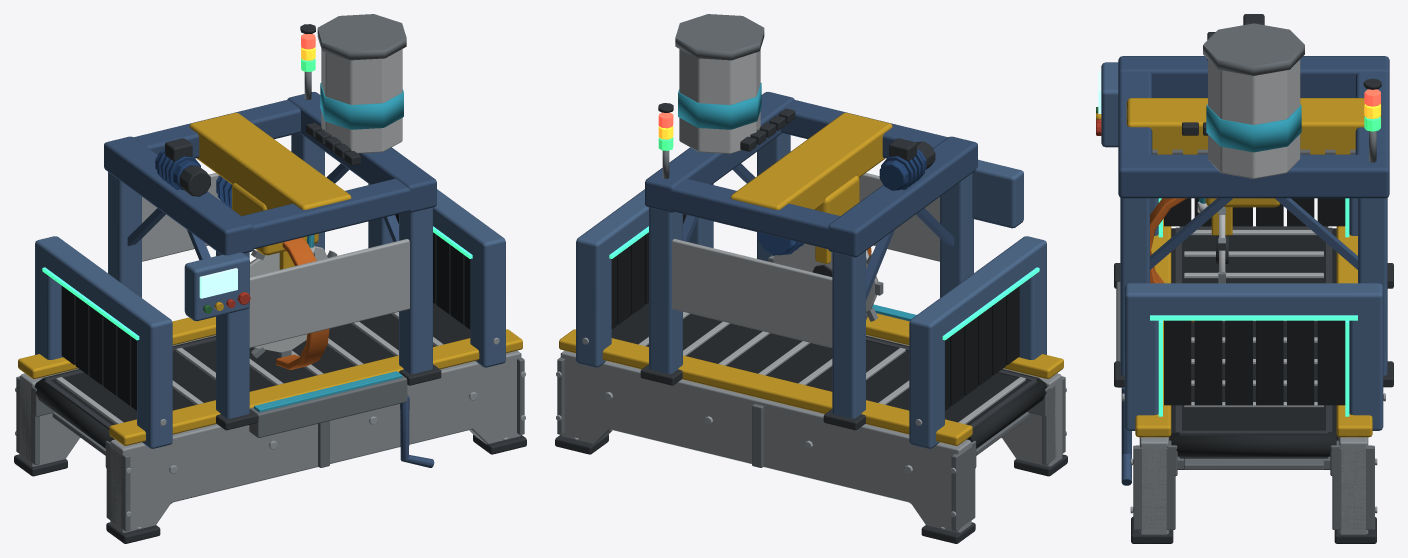
The model's file is fw_stonecutter.glb.
The picture shows the model from 3 angles, left to right: view 1: azimuth 30°, elevation 25°; view 2: azimuth 150°, elevation 25°; view 3: azimuth 270°, elevation 25°; orthographic projection. The views are drawn at different scales.
Visible parts, largest first — view 1: prism, block.096, belt, block.065, block.057, block.063, block.002, cyl.013, block.037, block.058, block.098, block.035 (+33 smaller); view 2: prism.001, block.097, belt, block.065, block.009, block.057, block.064, block.055, cyl.013, block.037, block.060, block.036 (+30 smaller); view 3: belt, block.062, block.046, cyl.013, block.065, block.057, cyl.015, block.045, block.044, cyl.002, block.060, block.058 (+43 smaller).
Boxes of the visible parts, x1,y1,x2,y2 form: prism: (110,350,521,532); block.096: (249,239,409,347); belt: (43,303,470,425); block.065: (189,112,351,209); block.057: (104,136,253,255); block.063: (212,178,436,253); block.002: (109,329,522,445); cyl.013: (321,49,402,153); block.037: (35,236,172,345); block.058: (399,207,432,373); block.098: (249,375,407,437); block.035: (137,326,172,448); prism.001: (560,350,971,532); block.097: (672,239,832,347); belt: (611,303,1038,425); block.065: (730,112,892,209); block.009: (559,329,972,445); block.057: (828,136,977,257); block.064: (645,178,862,252); block.055: (832,251,865,418); cyl.013: (679,49,760,153); block.037: (909,236,1046,345); block.060: (649,207,682,373); block.036: (909,326,944,448); belt: (1169,229,1338,440); block.062: (1118,154,1389,198); block.046: (1124,283,1383,317); cyl.013: (1208,59,1300,178); block.065: (1126,98,1381,154); block.057: (1118,56,1389,97); cyl.015: (1203,23,1304,75); block.045: (1349,304,1383,430); block.044: (1124,304,1158,430); cyl.002: (1171,433,1336,456); block.060: (1358,197,1387,375); block.058: (1120,197,1149,375).
Size of the model in its own units: 2.42 by 2.29 by 1.41.
